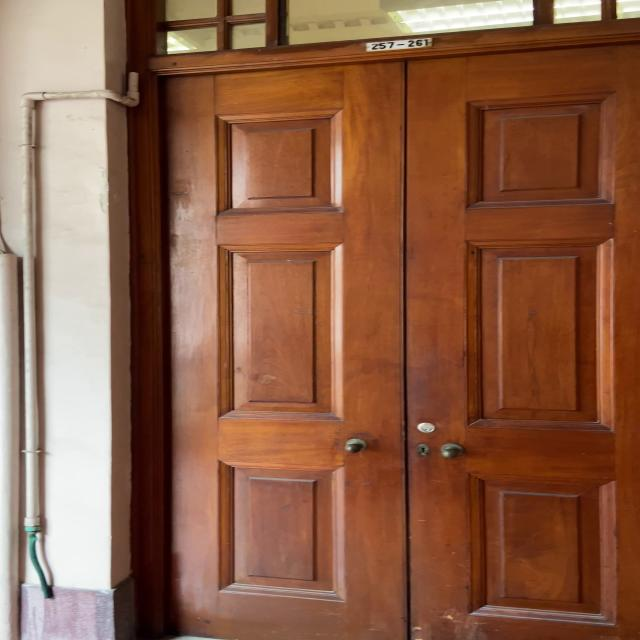room257: (360, 33, 437, 54)
room257door: (138, 15, 640, 640)
